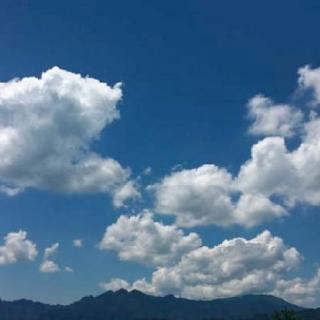Cirrocumulus: (0, 1, 320, 302)
